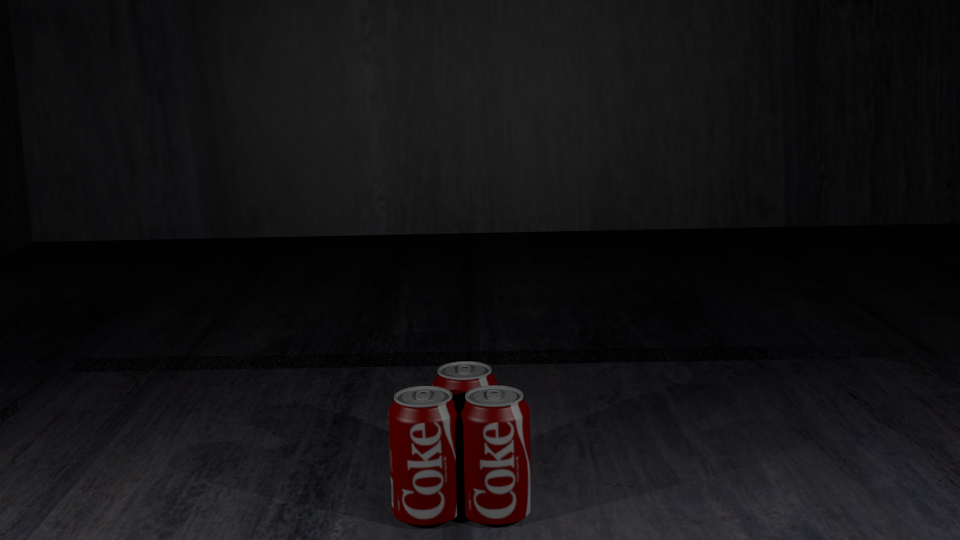cola_can: (388, 386, 459, 521), (459, 386, 529, 520), (432, 362, 497, 488)
